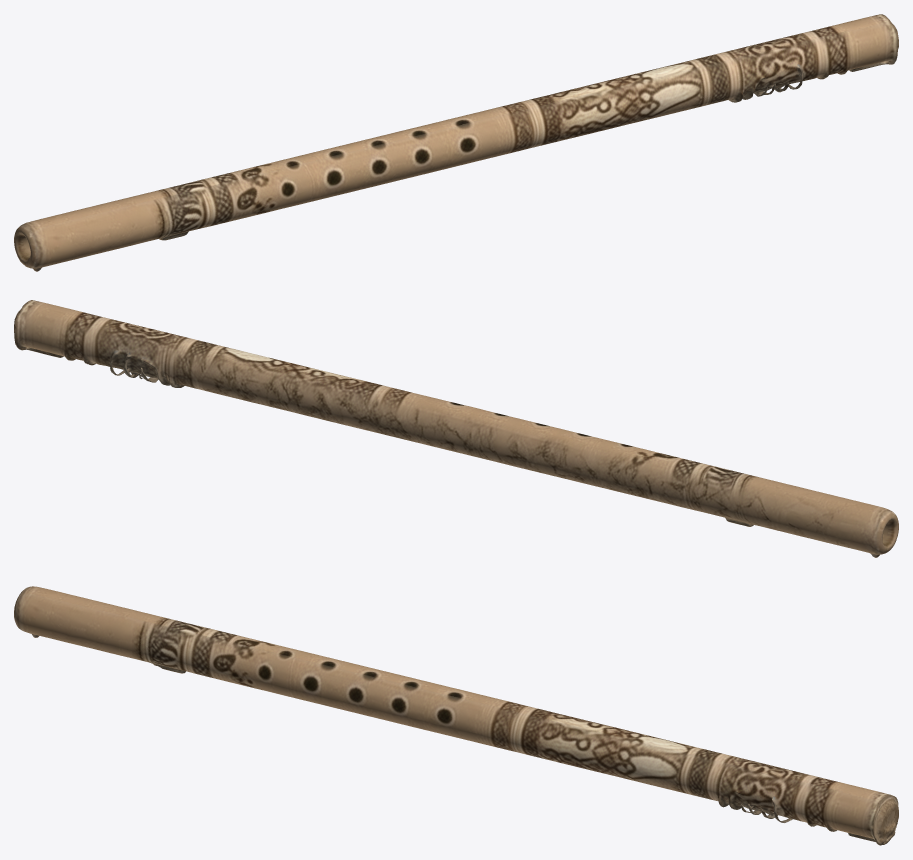
The model's file is suling.glb.
3 views of the same model, one above another, from view 1: azimuth 30°, elevation 25°; view 2: azimuth 150°, elevation 25°; view 3: azimuth 330°, elevation 25° (orthographic).
Visible parts, largest first — view 1: mesh_node; view 2: mesh_node; view 3: mesh_node.
Part boxes in pixels (left/top/right/bottom): mesh_node: left=14, top=14, right=898, bottom=271; mesh_node: left=14, top=300, right=898, bottom=557; mesh_node: left=14, top=586, right=898, bottom=845.
Size of the model in its own units: 1.9 by 0.1012 by 0.1055.
Materials: 1 (1 with a texture image).
